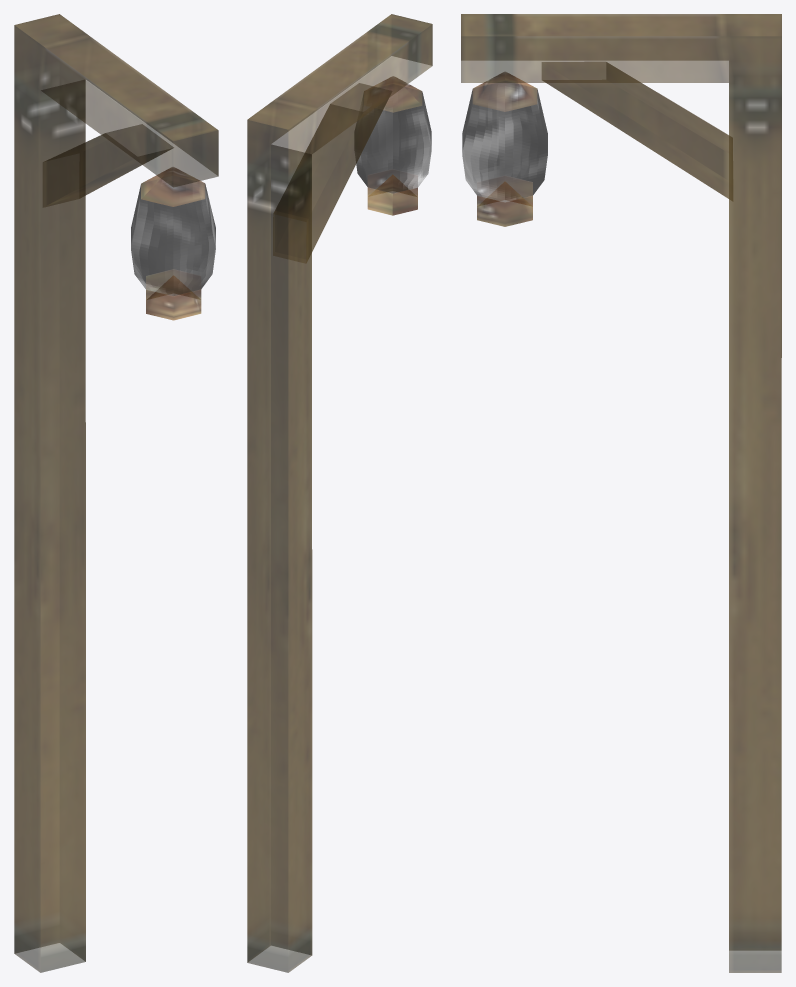
File: StreetLight01.obj
3 views of the same model, side by side, from view 1: azimuth 30°, elevation 25°; view 2: azimuth 150°, elevation 25°; view 3: azimuth 270°, elevation 25° (orthographic). The views are drawn at different scales.
Parts seen in each view (by area): view 1: Mesh_0, Mesh_1; view 2: Mesh_0, Mesh_1; view 3: Mesh_0, Mesh_1.
Boxes of the visible parts, x1,y1,x2,y2 form: Mesh_0: [14, 14, 218, 972]; Mesh_1: [131, 179, 215, 295]; Mesh_0: [247, 14, 432, 972]; Mesh_1: [355, 87, 431, 193]; Mesh_0: [461, 14, 781, 972]; Mesh_1: [462, 83, 547, 202].
Size of the model in its own units: 0.2474 by 2.58 by 0.8009.
Materials: 2 (2 with a texture image).
